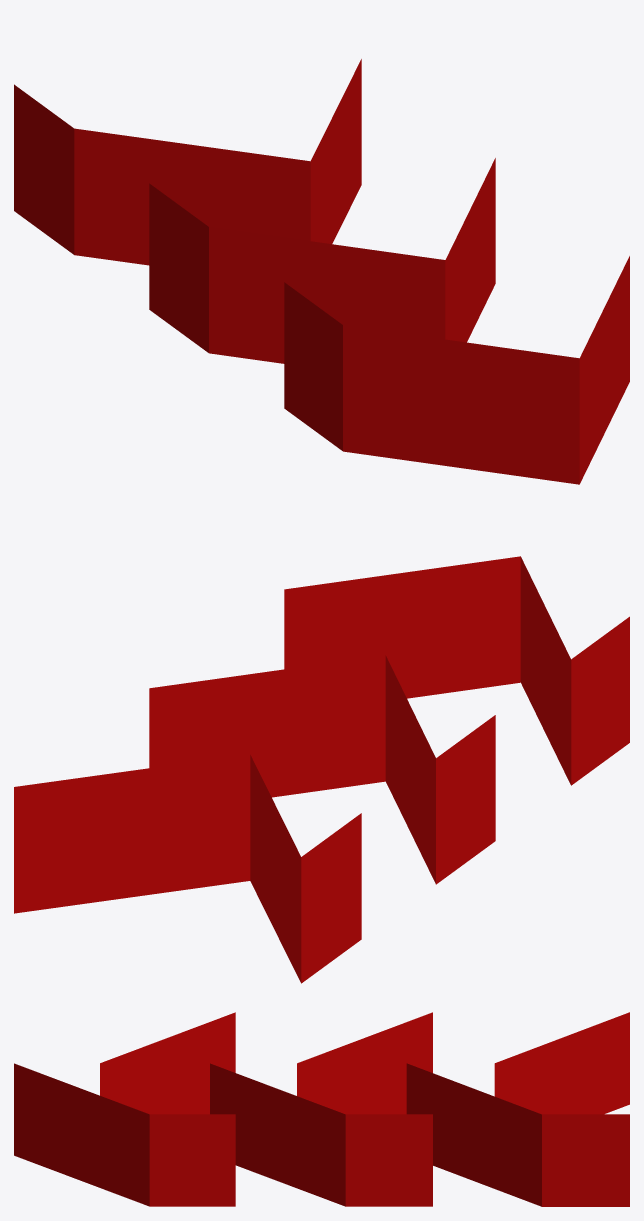
Rendered from slowDownFx.glb.
3 views of the same model, one above another, from view 1: azimuth 30°, elevation 25°; view 2: azimuth 150°, elevation 25°; view 3: azimuth 270°, elevation 25° (orthographic). The views are drawn at different scales.
Visible parts, largest first — view 1: sdTop; view 2: sdTop; view 3: sdTop.
Boxes of the visible parts, x1,y1,x2,y2 form: sdTop: (14, 59, 629, 484); sdTop: (14, 556, 629, 983); sdTop: (14, 1012, 629, 1206).
Size of the model in its own units: 0.9733 by 0.4099 by 2.48.
